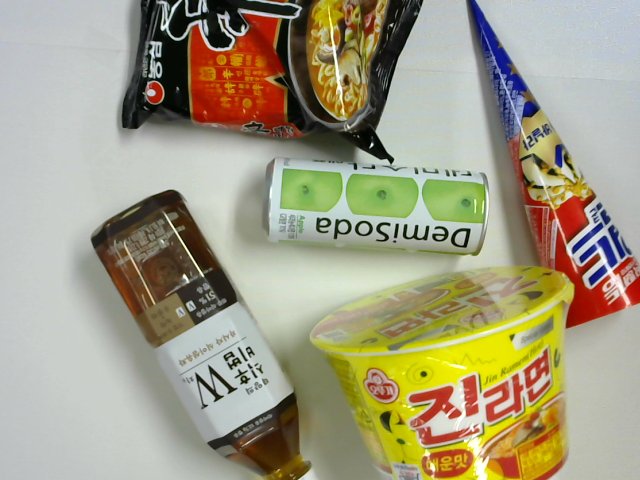Demisoda_Apple_Can_250ml: (264, 153, 491, 254)
Jinlamyeon_Hot_Taste_Large_Cup: (309, 264, 578, 480)
Post-meal_recipe_W_tea_500ml: (92, 189, 317, 480)
Sinramen_Black: (119, 1, 420, 138)
World_Cone_Banila: (467, 1, 640, 325)
